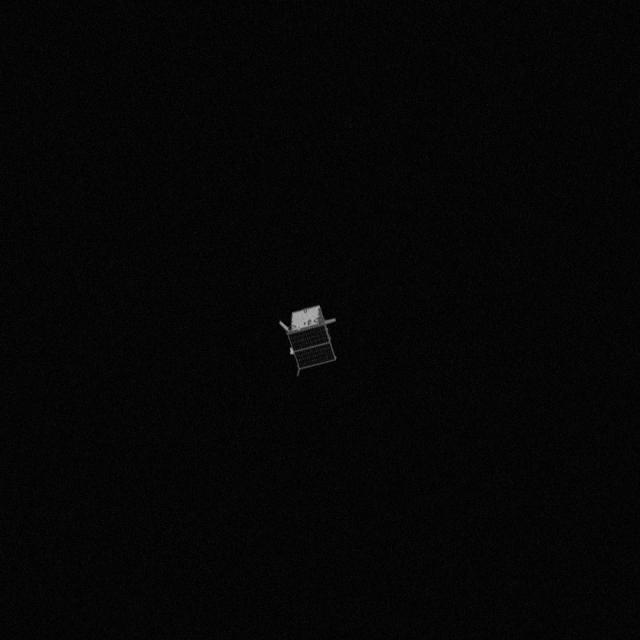medium_debris: (266, 308, 350, 384)
